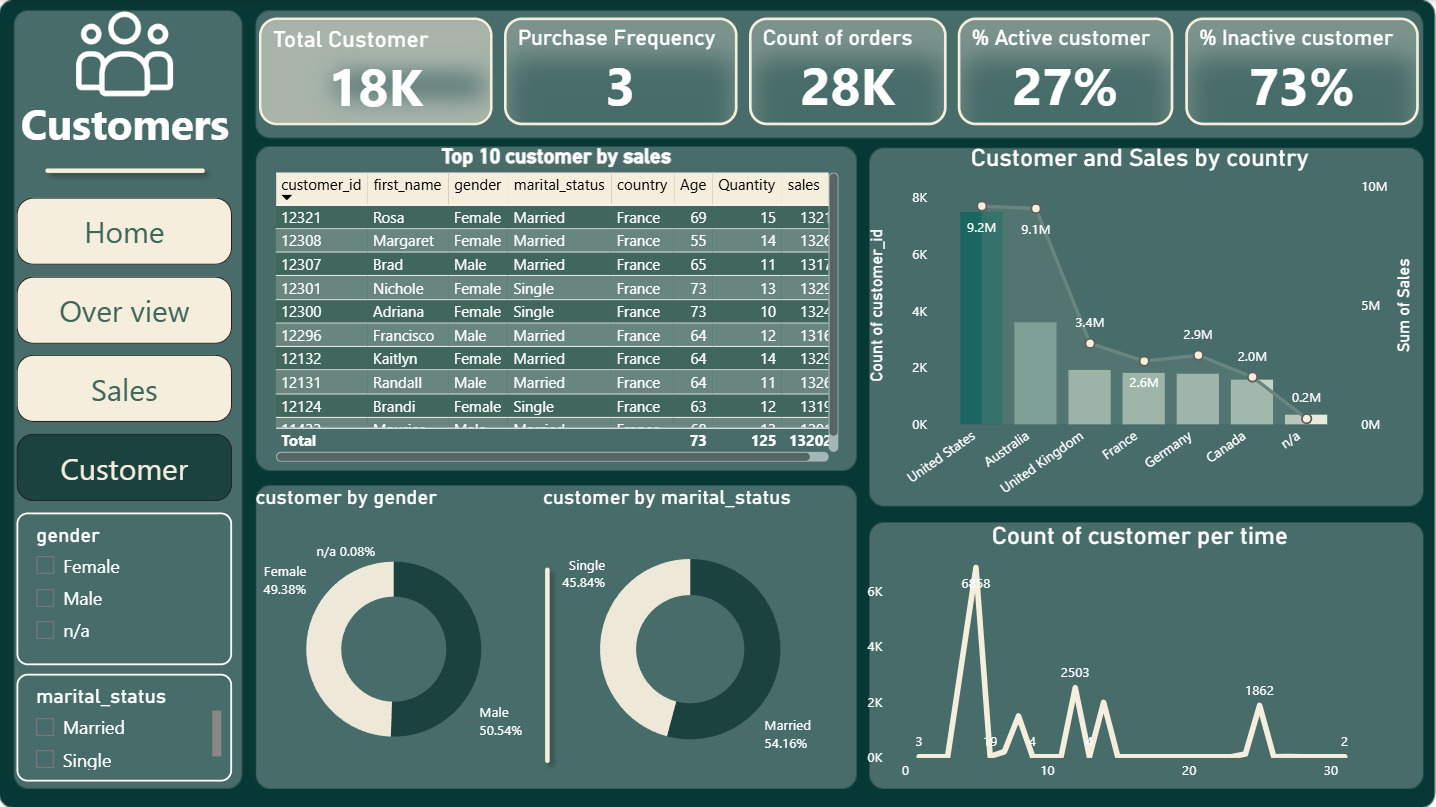

The page's visual inventory and layout, read from the dashboard file:
{"tool":"powerbi","page":{"name":"Customers","canvas":[1280,720],"ordinal":3},"visuals":[{"type":"textbox","box":[0,80,224,64],"z":0},{"type":"tableEx","title":"Top 10 customer by sales","fields":{"Values":["Dim_customers.customer_id","Dim_customers.first_name","Dim_customers.gender","Dim_customers.marital_status","Dim_customers.country","Measurs.calcolate Age","Sum(Fact_sales.Quantity)","Measurs.sum of sales for eatch cst"]},"box":[240,128,512,288],"z":1000},{"type":"lineChart","title":"Count of customer per time","fields":{"Category":["Dim_customers.create_date.Variation.Date Hierarchy.Day"],"Y":["CountNonNull(Dim_customers.customer_id)"]},"box":[768,464,496,240],"z":2000},{"type":"image","box":[48,0,128,96],"z":3000},{"type":"lineStackedColumnComboChart","title":"Customer and Sales by country","fields":{"Category":["Dim_customers.country"],"Y":["CountNonNull(Dim_customers.customer_id)"],"Y2":["Sum(Fact_sales.Sales)"]},"box":[768,128,496,336],"z":4000},{"type":"donutChart","title":"customer by gender","fields":{"Category":["Dim_customers.gender"],"Y":["CountNonNull(Dim_customers.customer_id)"]},"box":[224,432,256,272],"z":5000},{"type":"donutChart","title":"customer by marital_status","fields":{"Category":["Dim_customers.marital_status"],"Y":["CountNonNull(Dim_customers.customer_id)"]},"box":[480,432,272,272],"z":6000},{"type":"shape","box":[416,496,144,192],"z":7000},{"type":"shape","box":[32,128,160,48],"z":8000},{"type":"bookmarkNavigator","box":[16,176,192,272],"z":9000},{"type":"card","title":"Count of orders","fields":{"Values":["Measurs.#Order Count"]},"box":[668,16,176,96],"z":10000},{"type":"card","title":"Total Customer","fields":{"Values":["Measurs.Total  customer"]},"box":[232,16,208,96],"z":11000},{"type":"card","title":"Purchase Frequency","fields":{"Values":["Measurs.Purchase Frequency"]},"box":[450,16,208,96],"z":12000},{"type":"card","title":"% Active customer","fields":{"Values":["Measurs.#Active Customers %"]},"box":[854,16,192,96],"z":13000},{"type":"card","title":"% Inactive customer","fields":{"Values":["Measurs.Inactive Customers %"]},"box":[1056,16,208,96],"z":14000},{"type":"slicer","fields":{"Values":["Dim_customers.gender"]},"box":[16,456,192,136],"z":15000},{"type":"slicer","fields":{"Values":["Dim_customers.marital_status"]},"box":[16,600,192,96],"z":16000}]}

Visuals, with their boxes in screenshot pixels (x1, y1, x2, y2), scaled from the page's 1280x720 canvas onto the 1436x807 screenshot:
textbox: <bbox>0, 90, 251, 161</bbox>
"Top 10 customer by sales" tableEx: <bbox>269, 143, 844, 466</bbox>
"Count of customer per time" lineChart: <bbox>862, 520, 1418, 789</bbox>
image: <bbox>54, 0, 197, 108</bbox>
"Customer and Sales by country" lineStackedColumnComboChart: <bbox>862, 143, 1418, 520</bbox>
"customer by gender" donutChart: <bbox>251, 484, 538, 789</bbox>
"customer by marital_status" donutChart: <bbox>538, 484, 844, 789</bbox>
shape: <bbox>467, 556, 628, 771</bbox>
shape: <bbox>36, 143, 215, 197</bbox>
bookmarkNavigator: <bbox>18, 197, 233, 502</bbox>
"Count of orders" card: <bbox>749, 18, 947, 126</bbox>
"Total Customer" card: <bbox>260, 18, 494, 126</bbox>
"Purchase Frequency" card: <bbox>505, 18, 738, 126</bbox>
"% Active customer" card: <bbox>958, 18, 1173, 126</bbox>
"% Inactive customer" card: <bbox>1185, 18, 1418, 126</bbox>
slicer - Dim_customers.gender: <bbox>18, 511, 233, 664</bbox>
slicer - Dim_customers.marital_status: <bbox>18, 672, 233, 780</bbox>
